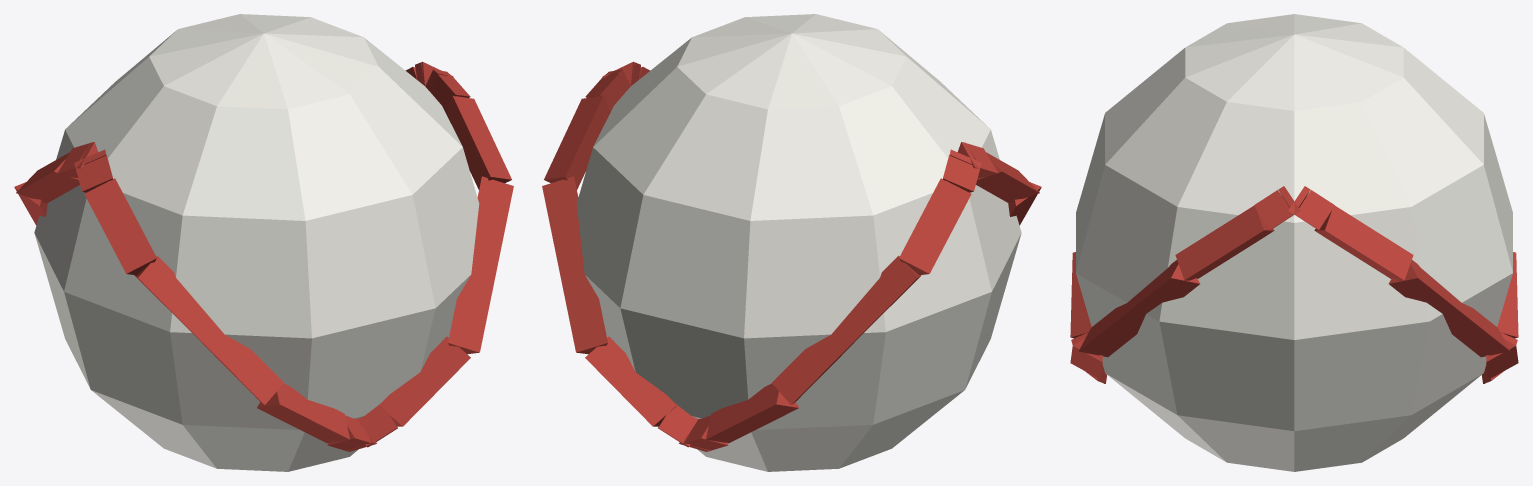
Rendered from GS_Baseball_01.glb.
The picture shows the model from 3 angles, left to right: view 1: azimuth 30°, elevation 25°; view 2: azimuth 150°, elevation 25°; view 3: azimuth 270°, elevation 25°; orthographic projection.
Visible parts, largest first — view 1: GS_Baseball_01; view 2: GS_Baseball_01; view 3: GS_Baseball_01.
Boxes of the visible parts, bbox=[...] form: GS_Baseball_01: bbox=[14, 14, 513, 471]; GS_Baseball_01: bbox=[542, 14, 1041, 471]; GS_Baseball_01: bbox=[1070, 14, 1518, 471].
Bounding box in the file's own units: 0.074 × 0.074 × 0.0721.
1 material, 1 textured.
